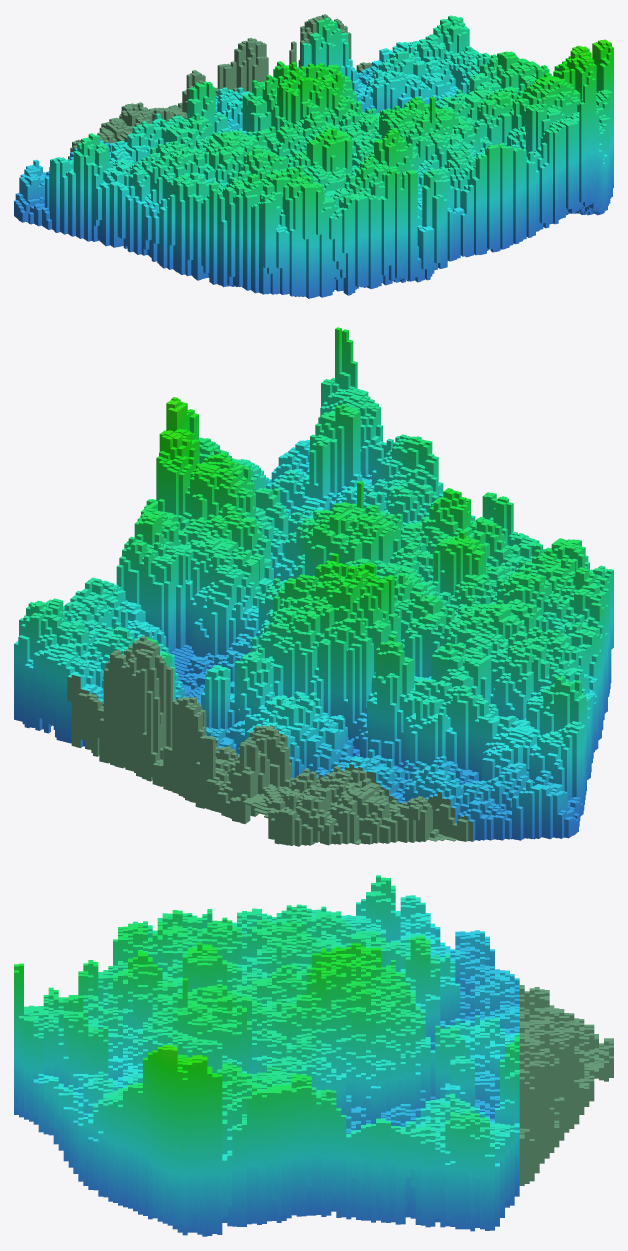
Rendered from lagambav2.glb.
The picture shows the model from 3 angles, top to bottom: view 1: azimuth 30°, elevation 25°; view 2: azimuth 150°, elevation 25°; view 3: azimuth 270°, elevation 25°; orthographic projection. The views are drawn at different scales.
Parts seen in each view (by area): view 1: Mesh_0.001, Mesh_0.002; view 2: Mesh_0.001, Mesh_0.002; view 3: Mesh_0.001, Mesh_0.002.
Boxes of the visible parts, bbox=[...] form: Mesh_0.001: bbox=[14, 15, 613, 298]; Mesh_0.002: bbox=[68, 14, 371, 158]; Mesh_0.001: bbox=[14, 327, 613, 841]; Mesh_0.002: bbox=[67, 635, 472, 846]; Mesh_0.001: bbox=[14, 875, 519, 1236]; Mesh_0.002: bbox=[519, 985, 613, 1185].
Size of the model in its own units: 0.5916 by 0.2473 by 0.5681.
Materials: 2 (1 with a texture image).
